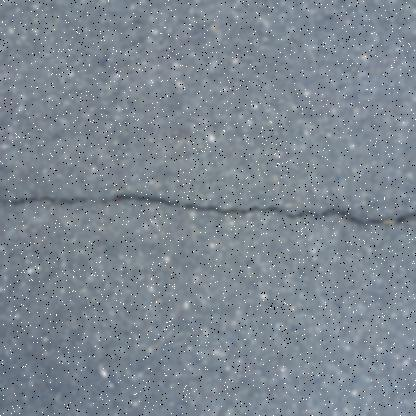Cracks: (0, 189, 415, 232)
